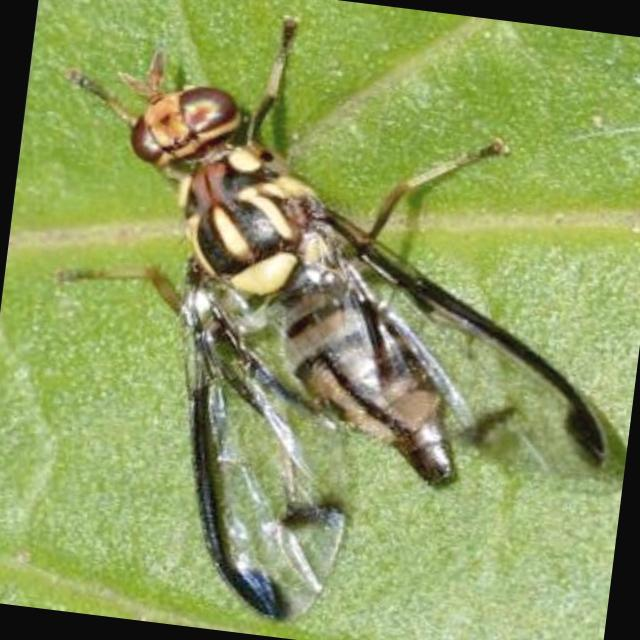melon fly: (21, 0, 640, 622)
